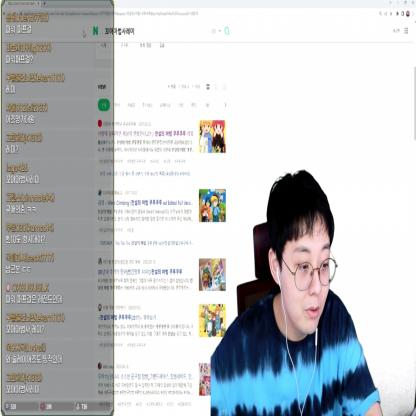streamer: (210, 170, 382, 416)
